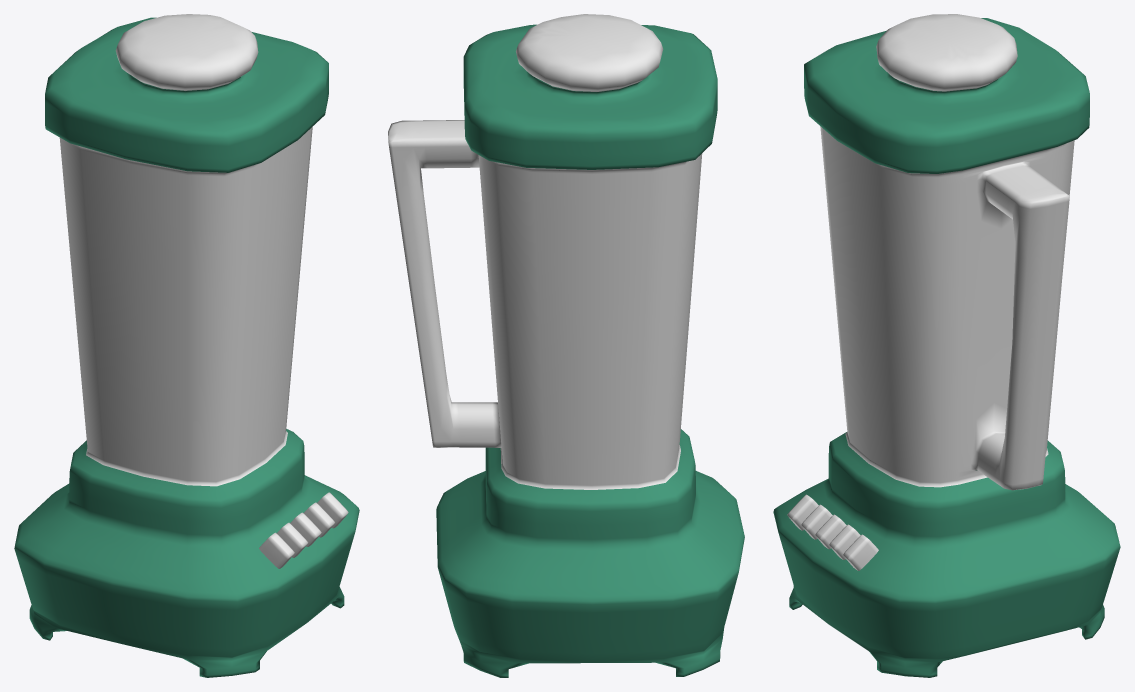
The model's file is blender.fbx.
3 views of the same model, side by side, from view 1: azimuth 30°, elevation 25°; view 2: azimuth 150°, elevation 25°; view 3: azimuth 270°, elevation 25° (orthographic).
Visible parts, largest first — view 1: blender; view 2: blender; view 3: blender.
Boxes of the visible parts, bbox=[...] form: blender: bbox=[14, 14, 359, 677]; blender: bbox=[388, 14, 744, 677]; blender: bbox=[773, 14, 1120, 677].
Size of the model in its own units: 130 by 236 by 129.
